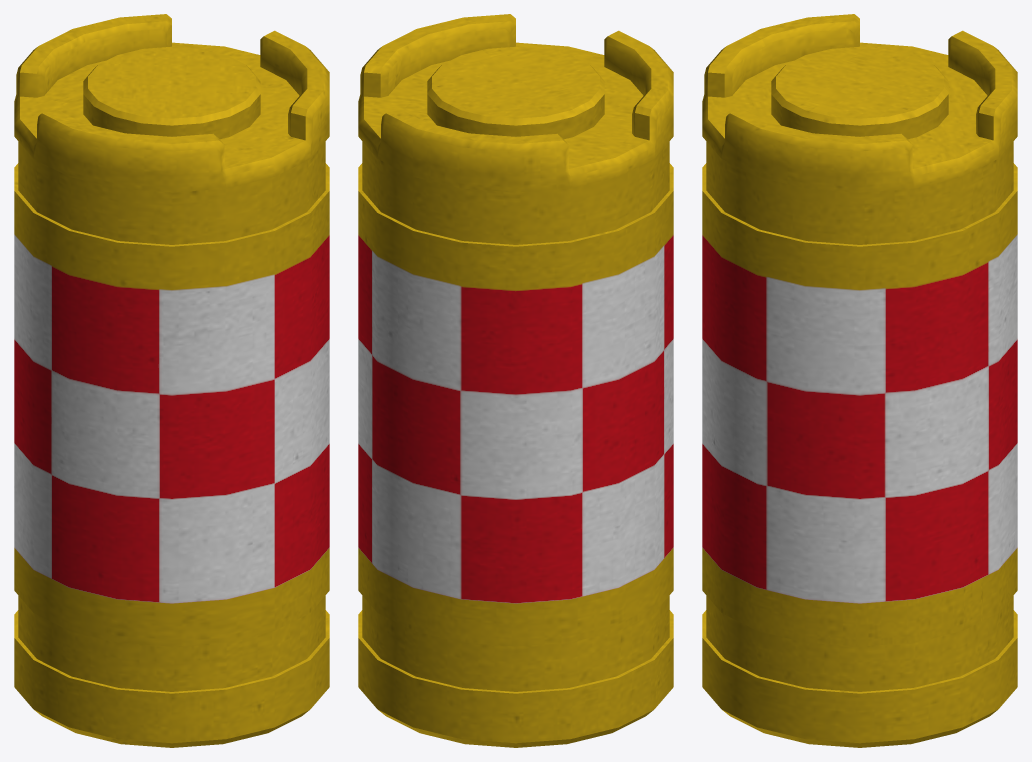
The model's file is sm_stob_003.fbx.
3 renders of one model, left to right at view 1: azimuth 30°, elevation 25°; view 2: azimuth 150°, elevation 25°; view 3: azimuth 270°, elevation 25°, orthographic.
Parts seen in each view (by area): view 1: sm_stob_003; view 2: sm_stob_003; view 3: sm_stob_003.
Part boxes in pixels (x1,y1,x2,y2): sm_stob_003: [14, 14, 329, 747]; sm_stob_003: [358, 14, 673, 747]; sm_stob_003: [702, 14, 1017, 747].
Size of the model in its own units: 0.4199 by 0.8773 by 0.4135.
Materials: 1 (1 with a texture image).
